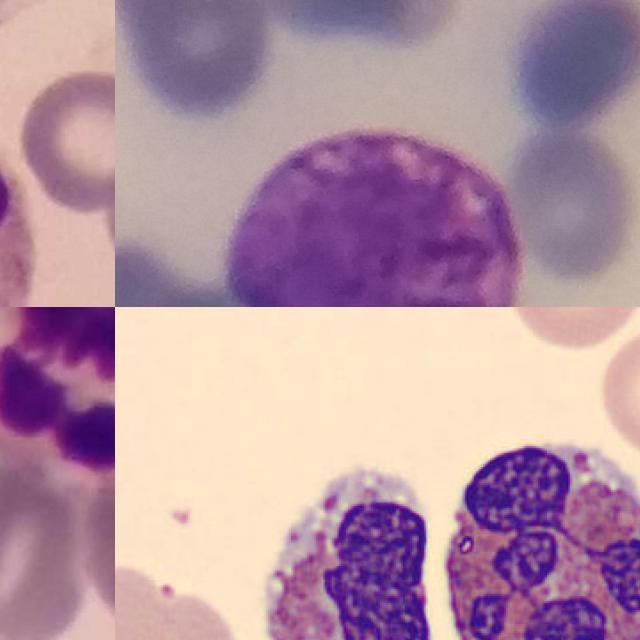Basophil: (228, 130, 520, 307)
Eosinophil: (428, 419, 640, 640), (243, 453, 465, 640)
Neutrophil: (0, 307, 115, 487)
RBC: (115, 560, 246, 640), (593, 317, 640, 465), (495, 307, 640, 354)
